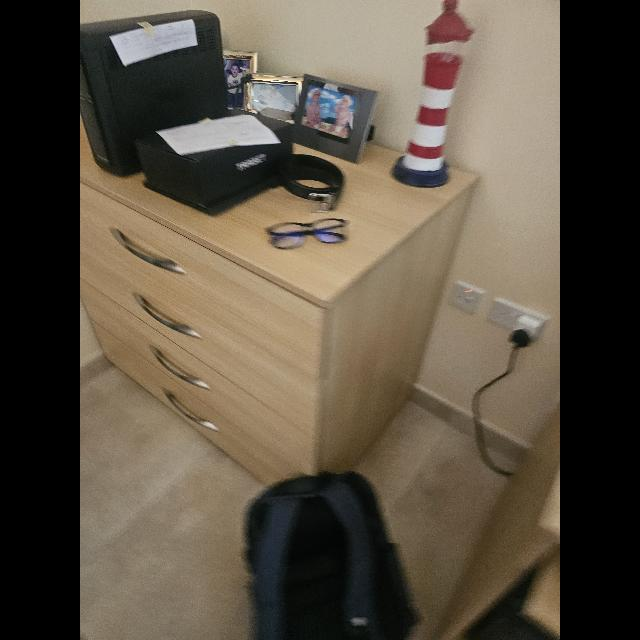glasses: (266, 218, 348, 250)
